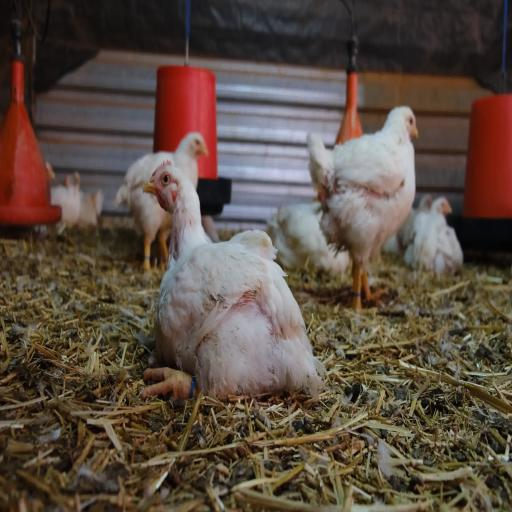healthy: (137, 153, 199, 205), (385, 90, 425, 141)
